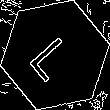L_NE: (27, 27, 83, 83)
